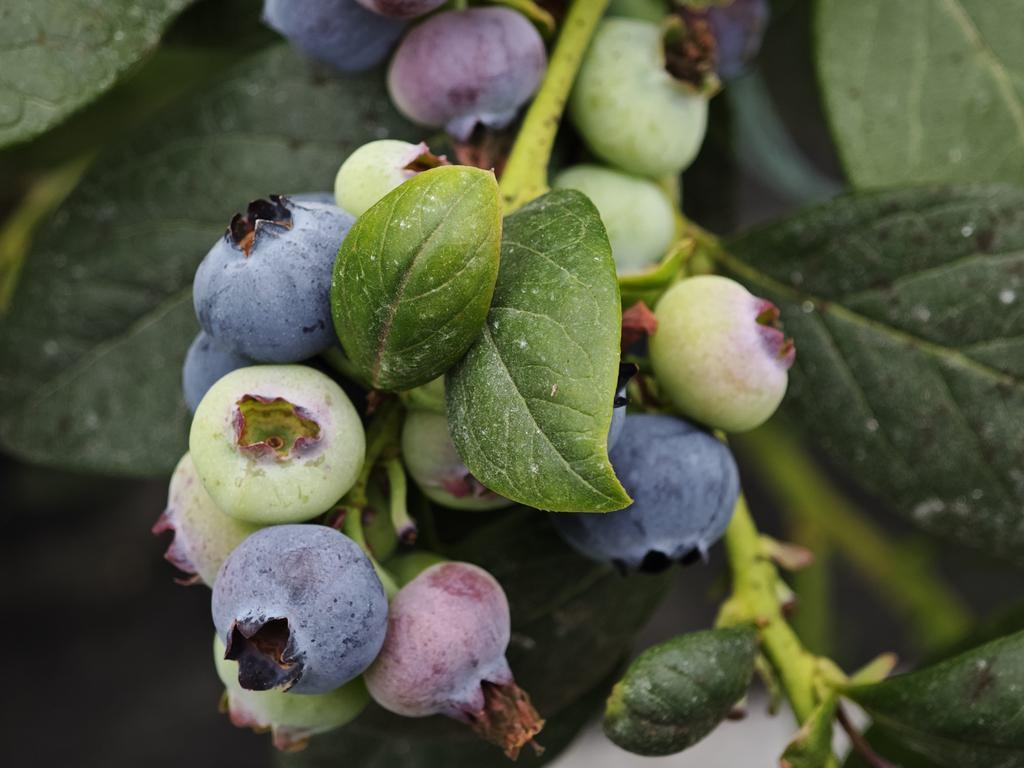RipeBlueBerry: (210, 526, 384, 694), (194, 186, 338, 362)
Semi-RipeBlueBerry: (379, 562, 516, 726)
UnripeBlueBerry: (189, 360, 366, 527), (657, 267, 790, 430), (392, 4, 544, 140)
